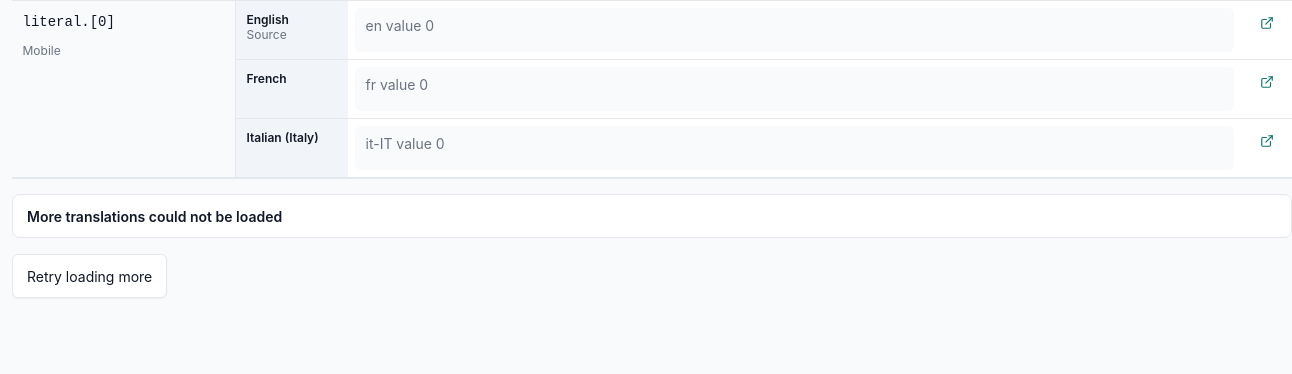
it: TranslationResultList cursor and keyboard loading › retains valid rows and stops repeat cursor loops until explicit retry
The width and height of the screenshot is (1292, 374).
(page scrolled)
Check: the message reads "More translations could not be loaded", box x1=27 y1=208 x2=282 y2=224
Check: the number of list items is 1, box x1=12 y1=1 x2=1291 y2=179
Click the button "Retry loading more" at (90, 276), box x1=12 y1=254 x2=167 y2=298
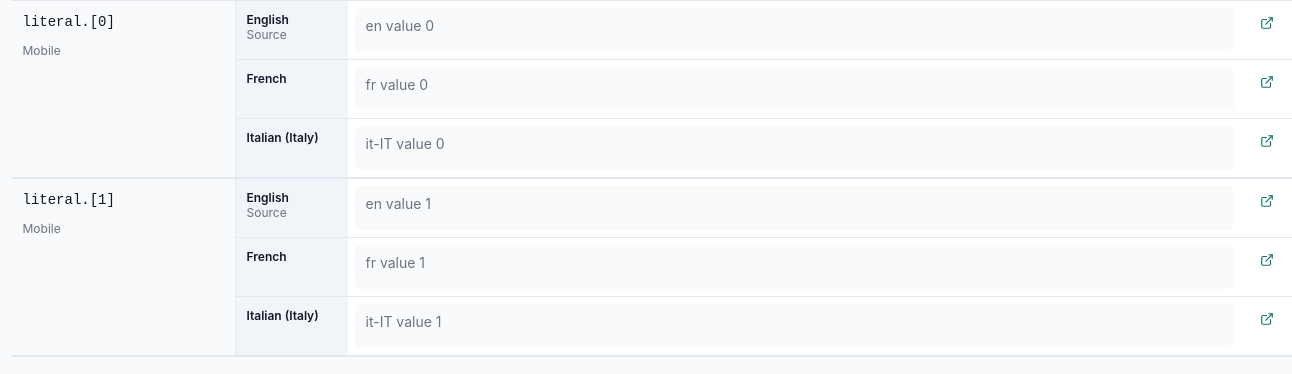
Check: the number of list items is 2, box x1=12 y1=1 x2=1291 y2=179; x1=12 y1=179 x2=1291 y2=357
Check: the message "More translations could not be loaded" is gone
